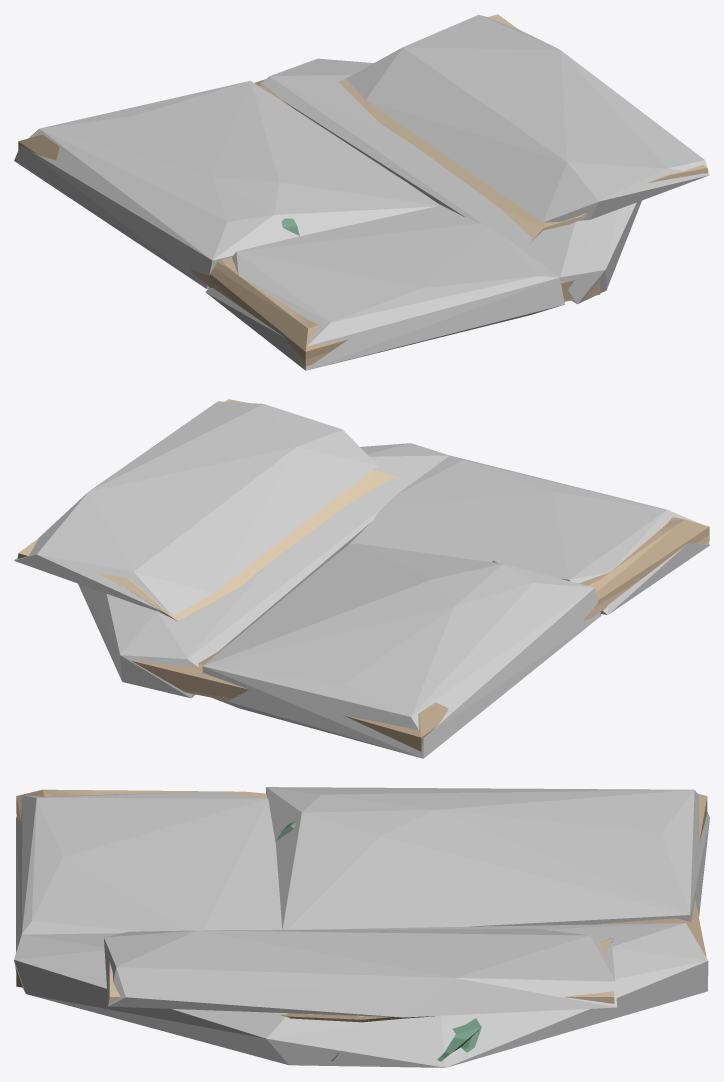
File: SM_Item_Letter_02.fbx
The picture shows the model from 3 angles, top to bottom: view 1: azimuth 30°, elevation 25°; view 2: azimuth 150°, elevation 25°; view 3: azimuth 270°, elevation 25°; orthographic projection. The views are drawn at different scales.
Visible parts, largest first — view 1: SM_Item_Letter_02_ConvexHulls, SM_Item_Letter_02; view 2: SM_Item_Letter_02_ConvexHulls, SM_Item_Letter_02; view 3: SM_Item_Letter_02_ConvexHulls, SM_Item_Letter_02.
Boxes of the visible parts, x1,y1,x2,y2 form: SM_Item_Letter_02_ConvexHulls: [14, 15, 709, 370]; SM_Item_Letter_02: [18, 14, 707, 366]; SM_Item_Letter_02_ConvexHulls: [14, 401, 709, 758]; SM_Item_Letter_02: [18, 399, 709, 751]; SM_Item_Letter_02_ConvexHulls: [14, 787, 709, 1067]; SM_Item_Letter_02: [16, 789, 707, 1061].
Size of the model in its own units: 28.74 by 30.35 by 4.71.
2 materials, 1 textured.
